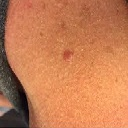Carcinoma: (62, 50, 75, 66)
